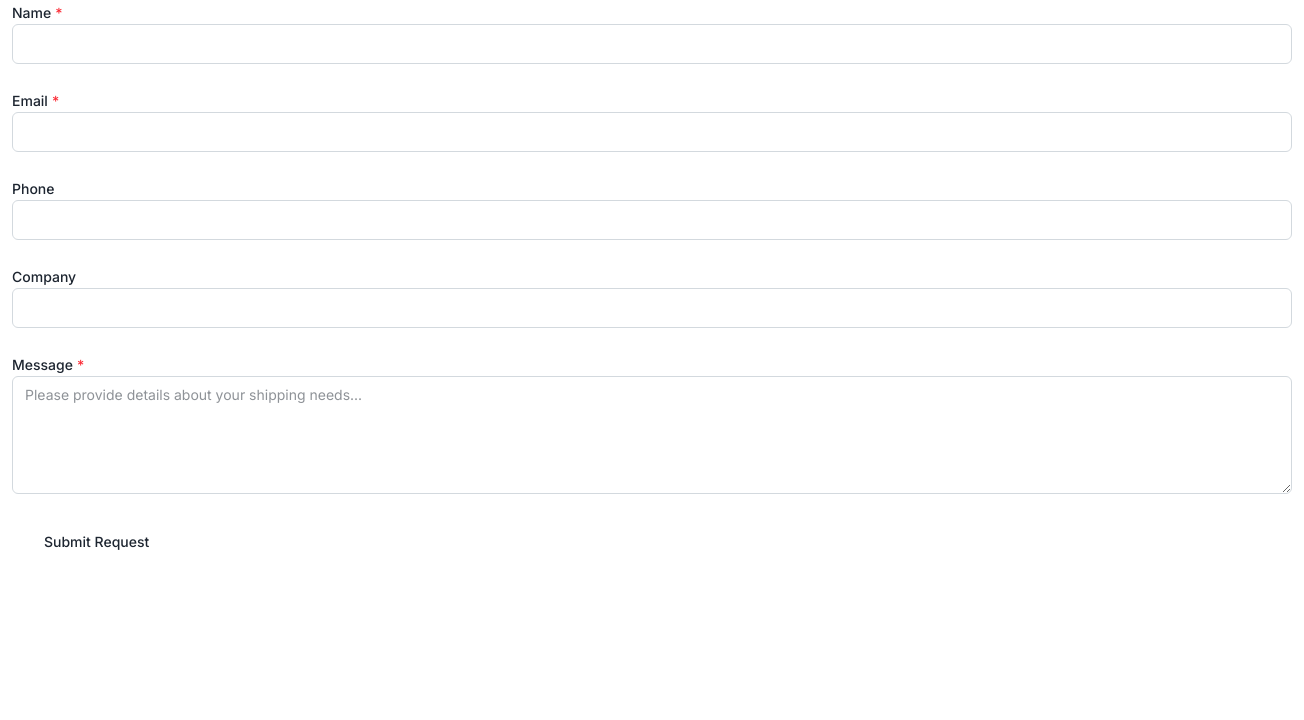
Test: RateRequestForm › Form Submission › displays success message on successful submission
Type "John Doe" into the field labelled "Name*" at (652, 44), box x1=12 y1=24 x2=1292 y2=64
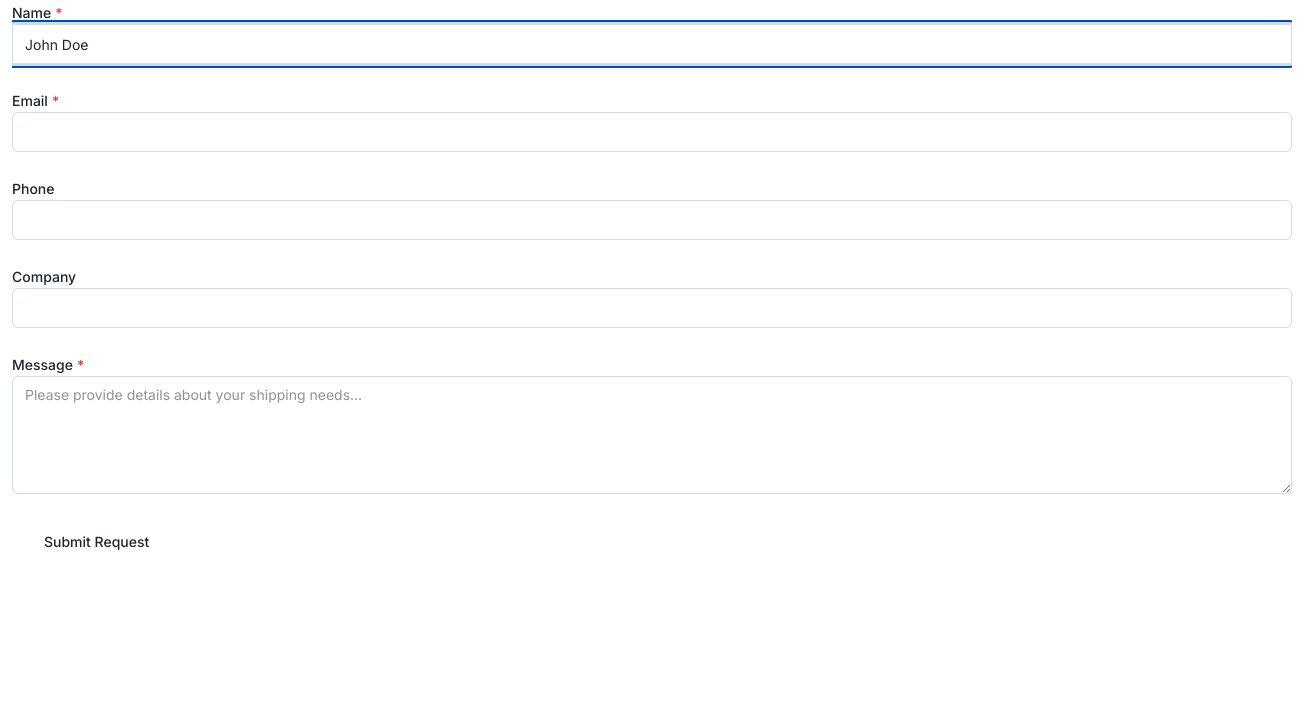
Type "john@example.com" into the field labelled "Email*" at (652, 132), box x1=12 y1=112 x2=1292 y2=152
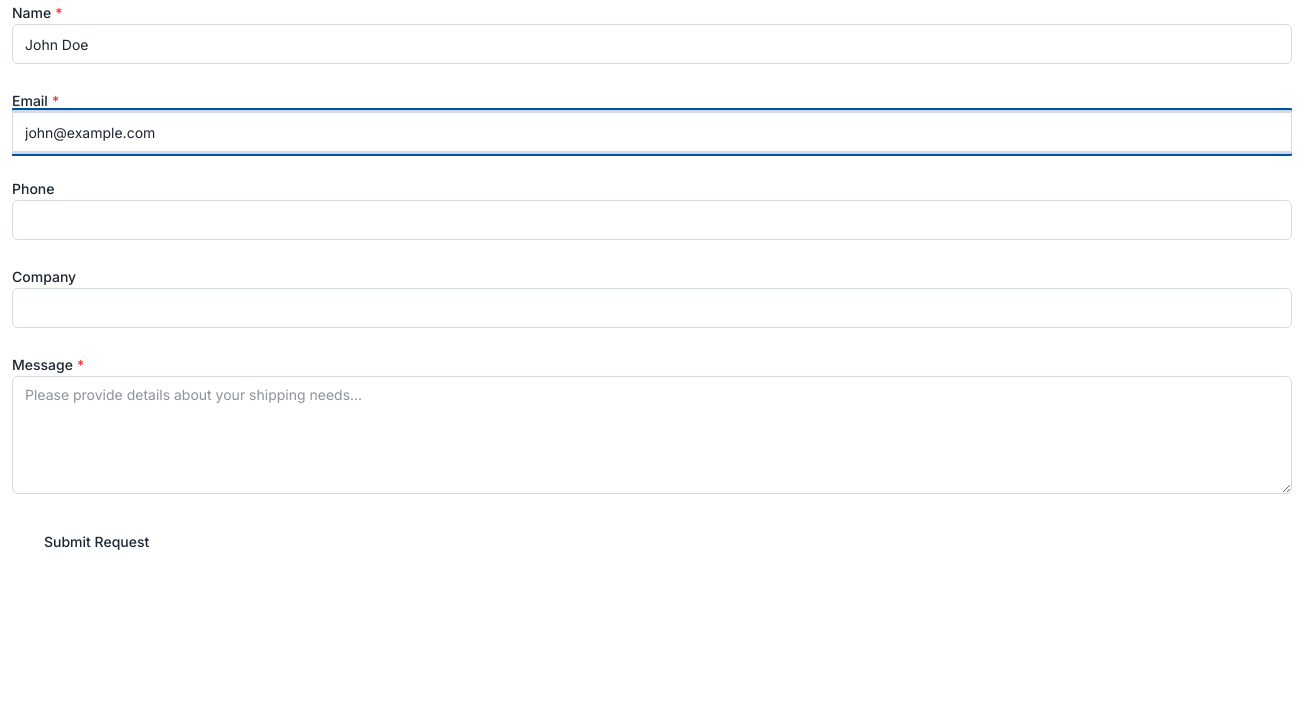
Type "Need quote for shipping" into the text box labelled "Message*" at (652, 435), box x1=12 y1=376 x2=1292 y2=494
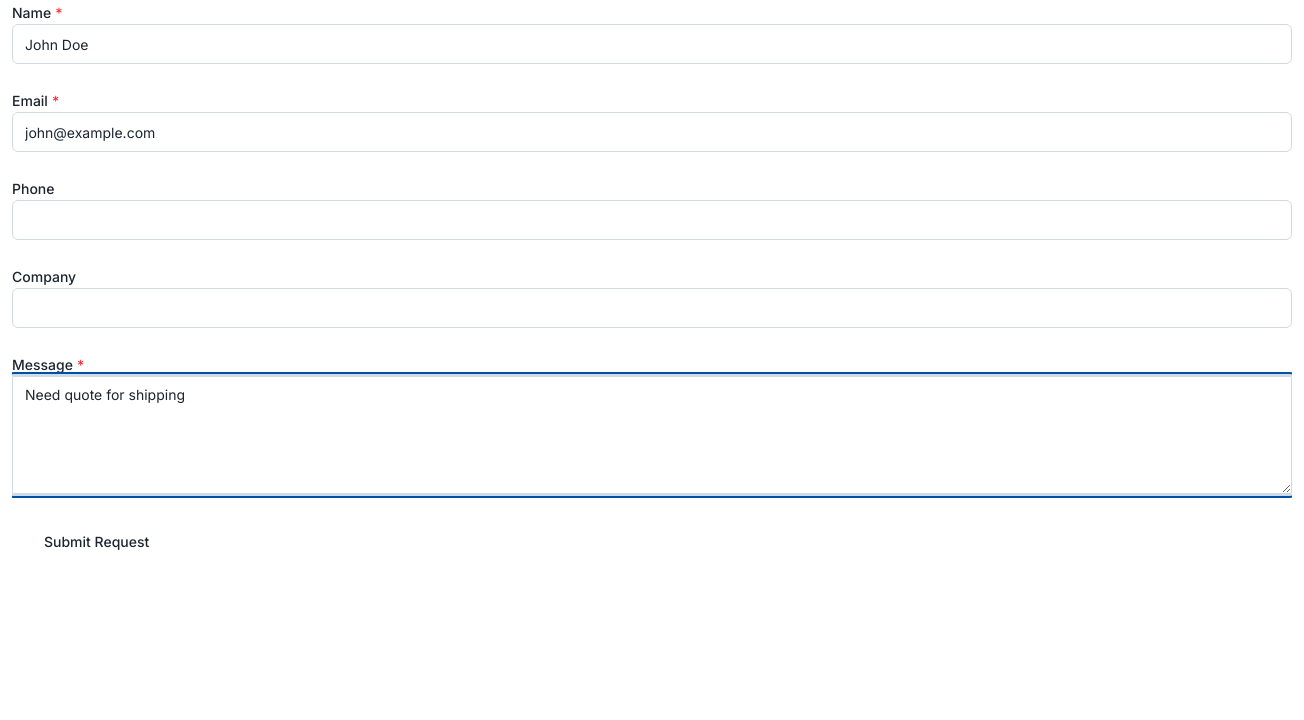
Click the button "Submit Request" at (97, 542), box x1=12 y1=518 x2=181 y2=566
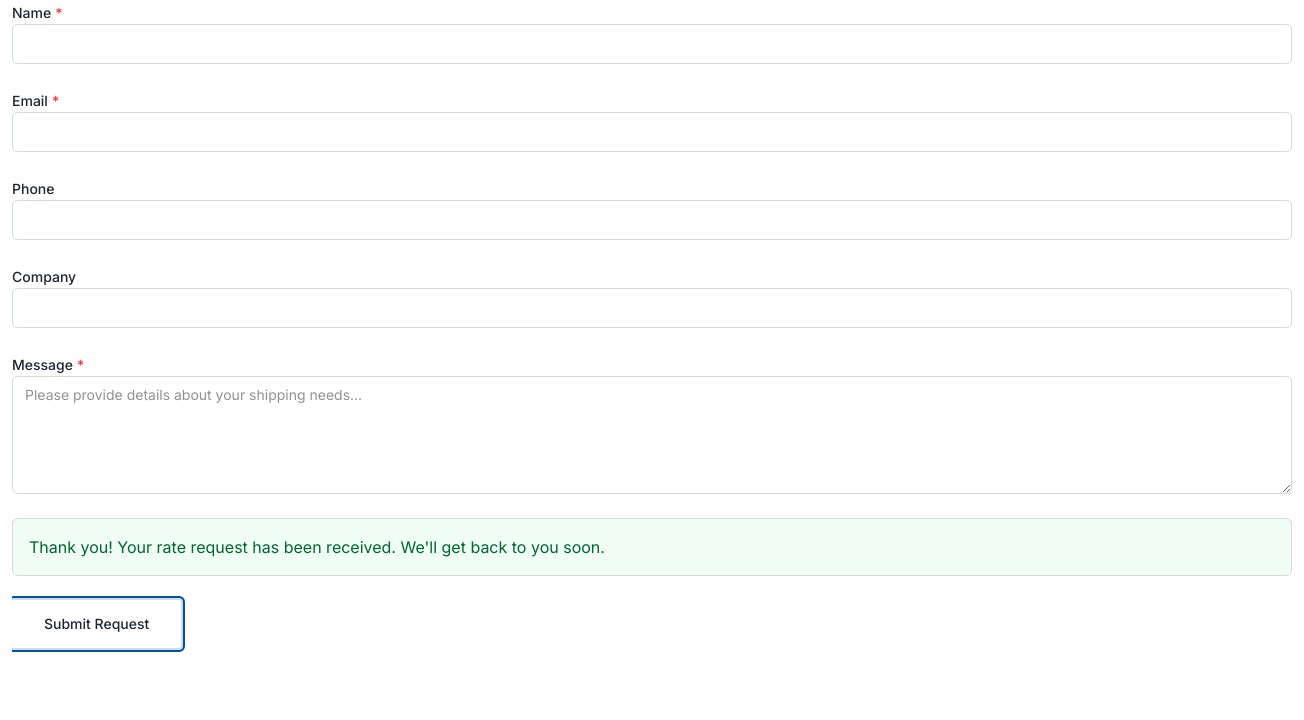
Now the text "Thank you! Your rate request has been received. We'll get back to you soon." is shown, box x1=12 y1=518 x2=1292 y2=576
